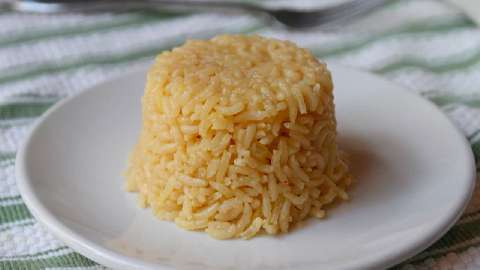plain rice: (143, 37, 336, 227)
